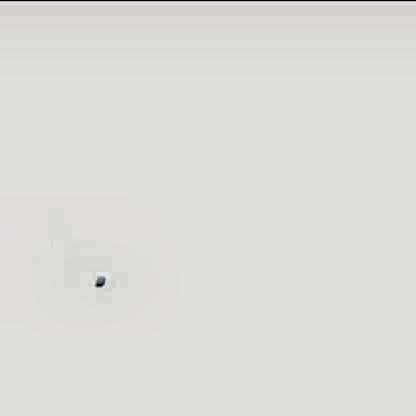golfball: (91, 272, 107, 288)
